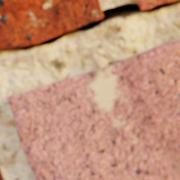brick: (7, 40, 179, 179), (0, 0, 101, 50), (136, 0, 177, 10)
crack: (0, 0, 179, 51)
